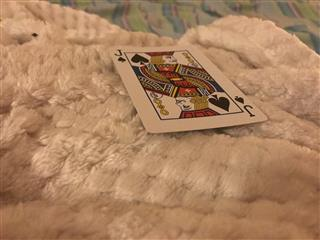JackOfSpades: (107, 43, 267, 133)
